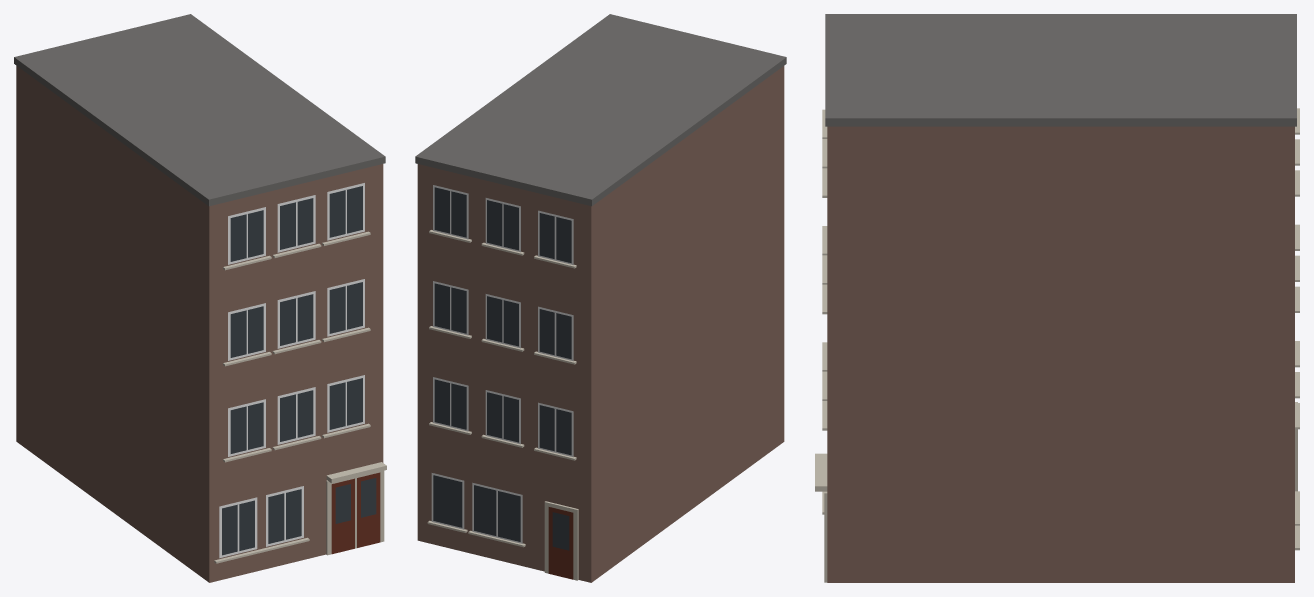
Rendered from we-or-three__hood__4__flat__long__solid__mirror.glb.
3 views of the same model, side by side, from view 1: azimuth 30°, elevation 25°; view 2: azimuth 150°, elevation 25°; view 3: azimuth 270°, elevation 25° (orthographic). The views are drawn at different scales.
Parts seen in each view (by area): view 1: we-or-three__hood__4__flat__long__solid__mirror; view 2: we-or-three__hood__4__flat__long__solid__mirror; view 3: we-or-three__hood__4__flat__long__solid__mirror.
Boxes of the visible parts, left/top/right/bottom form: we-or-three__hood__4__flat__long__solid__mirror: left=14, top=14, right=386, bottom=582; we-or-three__hood__4__flat__long__solid__mirror: left=415, top=14, right=786, bottom=582; we-or-three__hood__4__flat__long__solid__mirror: left=815, top=14, right=1299, bottom=582.
Bounding box in the file's own units: 6.07 × 12.6 × 11.9.
